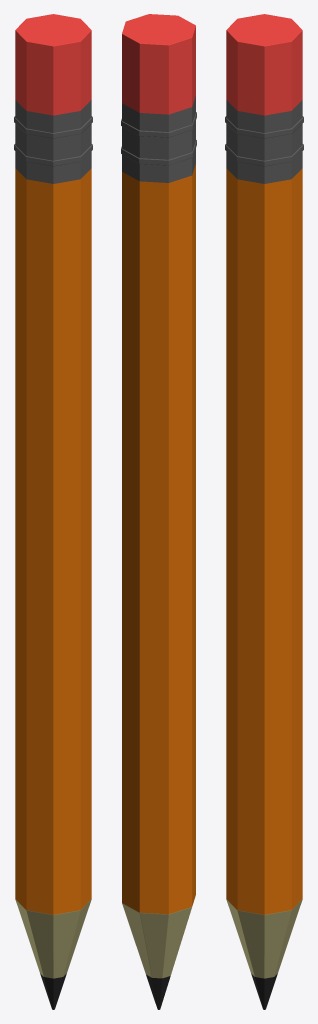
The model's file is Pen 1.fbx.
The picture shows the model from 3 angles, left to right: view 1: azimuth 90°, elevation 25°; view 2: azimuth 150°, elevation 25°; view 3: azimuth 270°, elevation 25°; orthographic projection.
Parts seen in each view (by area): view 1: Pen; view 2: Pen; view 3: Pen.
Part boxes in pixels (x1=…): Pen: x1=14, y1=14, x2=92, y2=1009; Pen: x1=121, y1=14, x2=196, y2=1009; Pen: x1=225, y1=14, x2=303, y2=1009.
Size of the model in its own units: 40.58 by 564 by 41.19.
